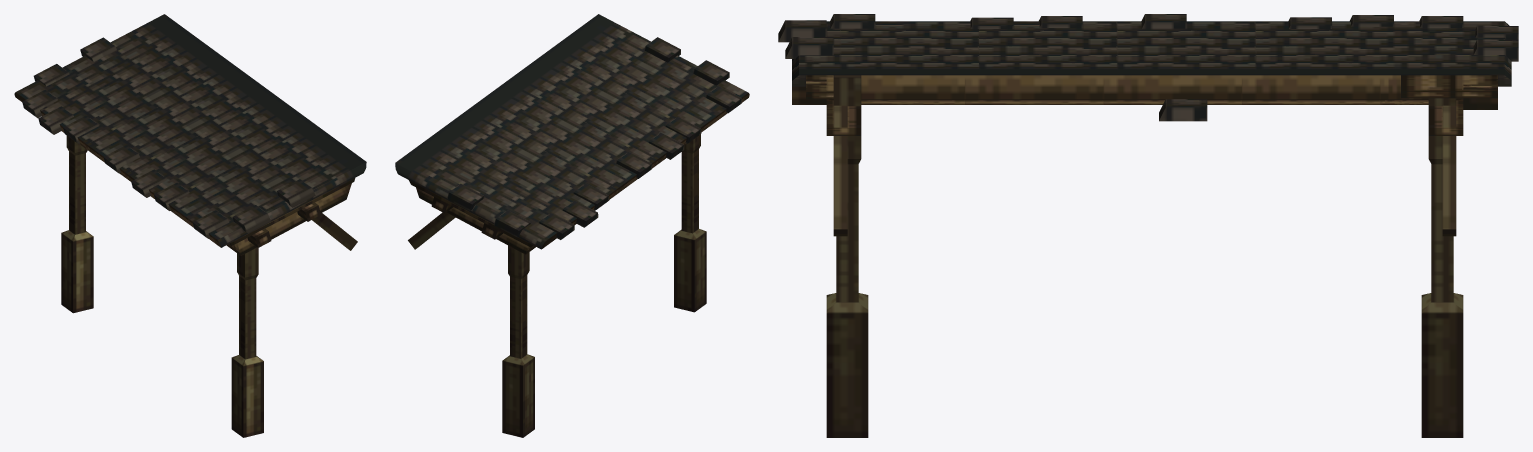
Rendered from EnvBdgMD_WoodHouse_A_Outdoor_Roof_B.FBX.
3 renders of one model, left to right at view 1: azimuth 30°, elevation 25°; view 2: azimuth 150°, elevation 25°; view 3: azimuth 270°, elevation 25°, orthographic. The views are drawn at different scales.
Parts seen in each view (by area): view 1: EnvBdgMD_WoodHouse_A_Outdoor_Roof_B; view 2: EnvBdgMD_WoodHouse_A_Outdoor_Roof_B; view 3: EnvBdgMD_WoodHouse_A_Outdoor_Roof_B.
Part boxes in pixels (box(x1,y1,x2,y2)): EnvBdgMD_WoodHouse_A_Outdoor_Roof_B: box(14, 14, 366, 437); EnvBdgMD_WoodHouse_A_Outdoor_Roof_B: box(395, 14, 749, 437); EnvBdgMD_WoodHouse_A_Outdoor_Roof_B: box(778, 14, 1518, 437).
Bounding box in the file's own units: 232 × 354 × 535.
1 material, 1 textured.
